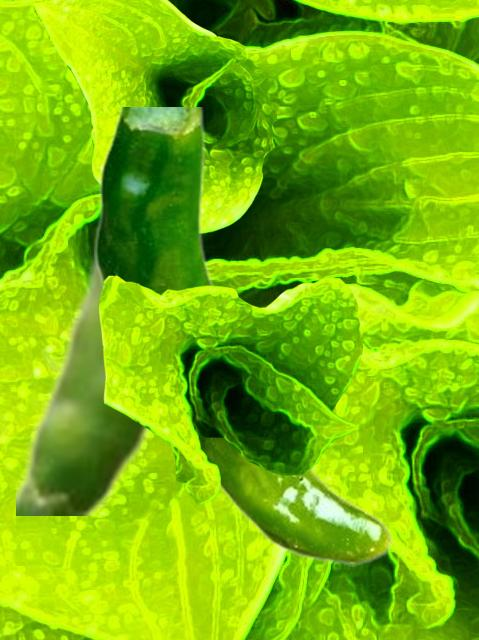green_chili: (94, 107, 391, 565), (16, 228, 155, 514)
